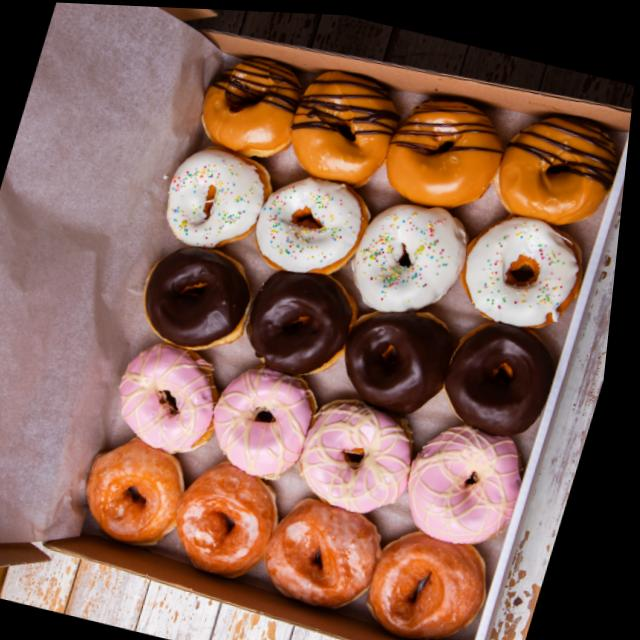donut: (405, 407, 547, 552), (455, 197, 604, 333), (345, 182, 486, 322), (488, 93, 632, 230), (377, 76, 514, 215), (334, 286, 471, 421), (265, 485, 404, 617), (368, 516, 515, 640), (134, 230, 272, 361), (297, 388, 433, 520), (237, 253, 370, 385), (205, 353, 336, 486), (249, 160, 385, 287), (170, 453, 299, 584), (109, 329, 238, 460), (442, 304, 569, 431), (282, 59, 407, 187), (81, 430, 207, 555), (189, 38, 313, 161), (160, 135, 284, 255)
